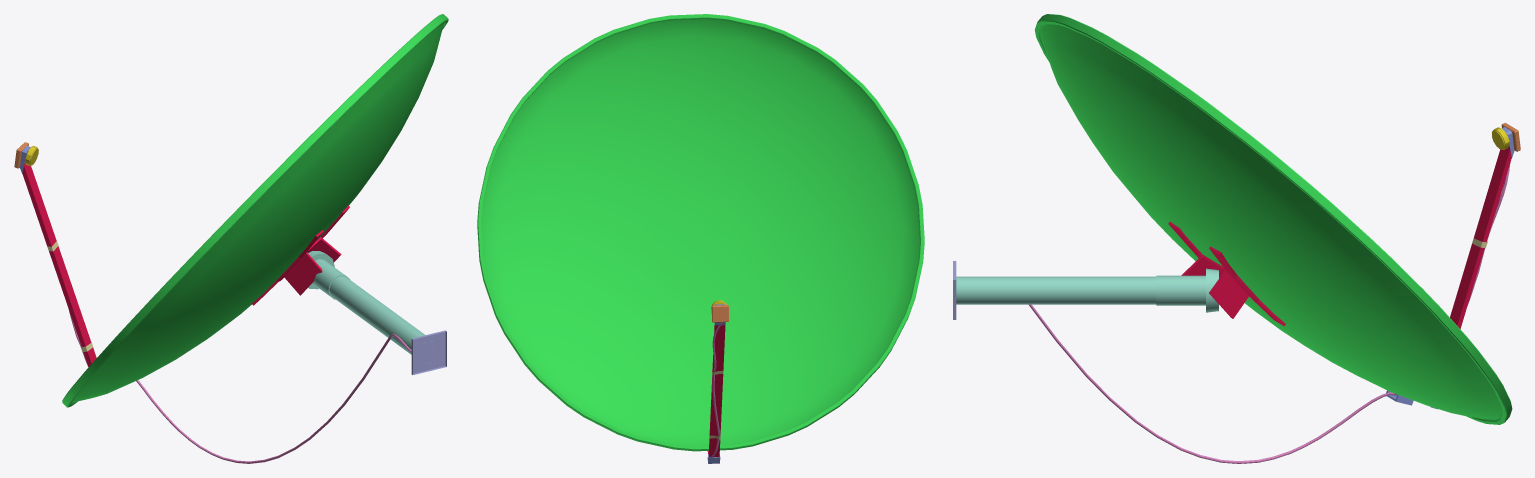
The picture shows the model from 3 angles, left to right: view 1: azimuth 30°, elevation 25°; view 2: azimuth 150°, elevation 25°; view 3: azimuth 270°, elevation 25°; orthographic projection. The views are drawn at different scales.
Visible parts, largest first — view 1: DIsh, Support; view 2: DIsh; view 3: DIsh, Support.
Boxes of the visible parts, x1,y1,x2,y2 form: DIsh: (14, 14, 448, 463); Support: (308, 251, 446, 374); DIsh: (477, 14, 924, 463); DIsh: (1029, 14, 1520, 463); Support: (953, 261, 1218, 319).
Size of the model in its own units: 181 by 176 by 187.
